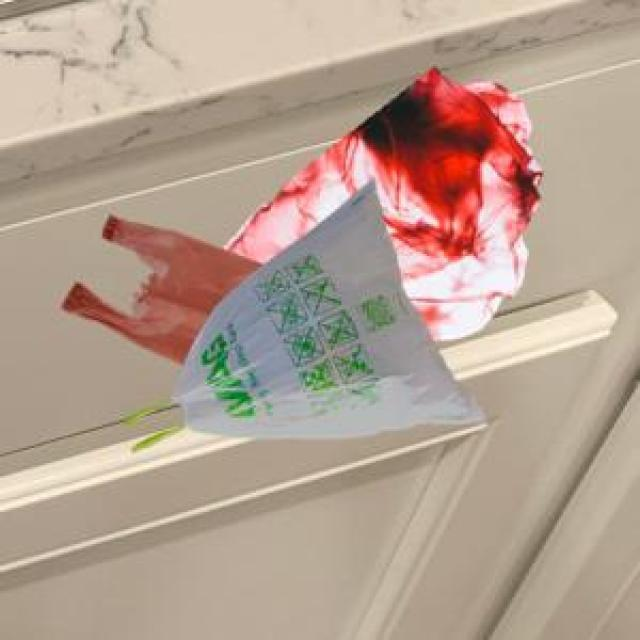waste: (62, 70, 541, 437)
